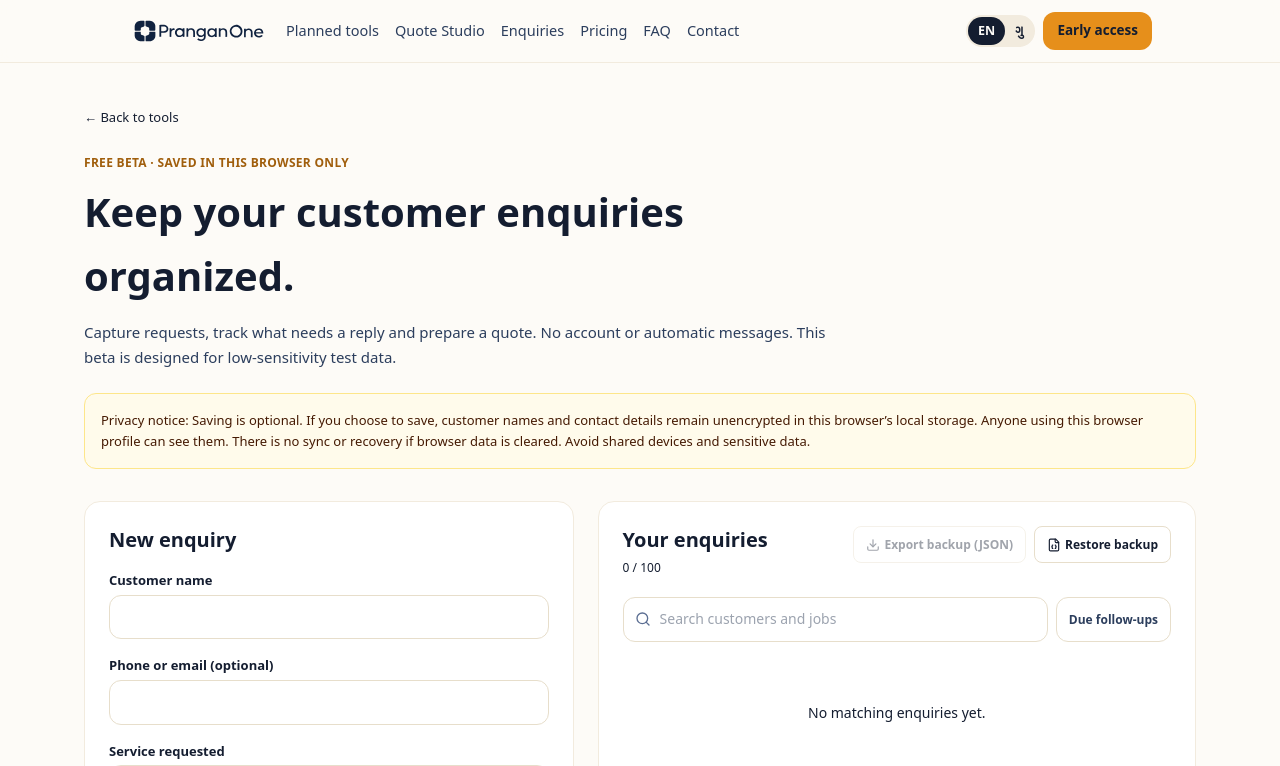
it: local enquiry tracker › saves a customer request and offers a quotation from it
The image size is (1280, 766).
Step 1. Type "Ravi" into the field labelled "Customer name" → (329, 617), box [109, 595, 549, 639]
(page scrolled)
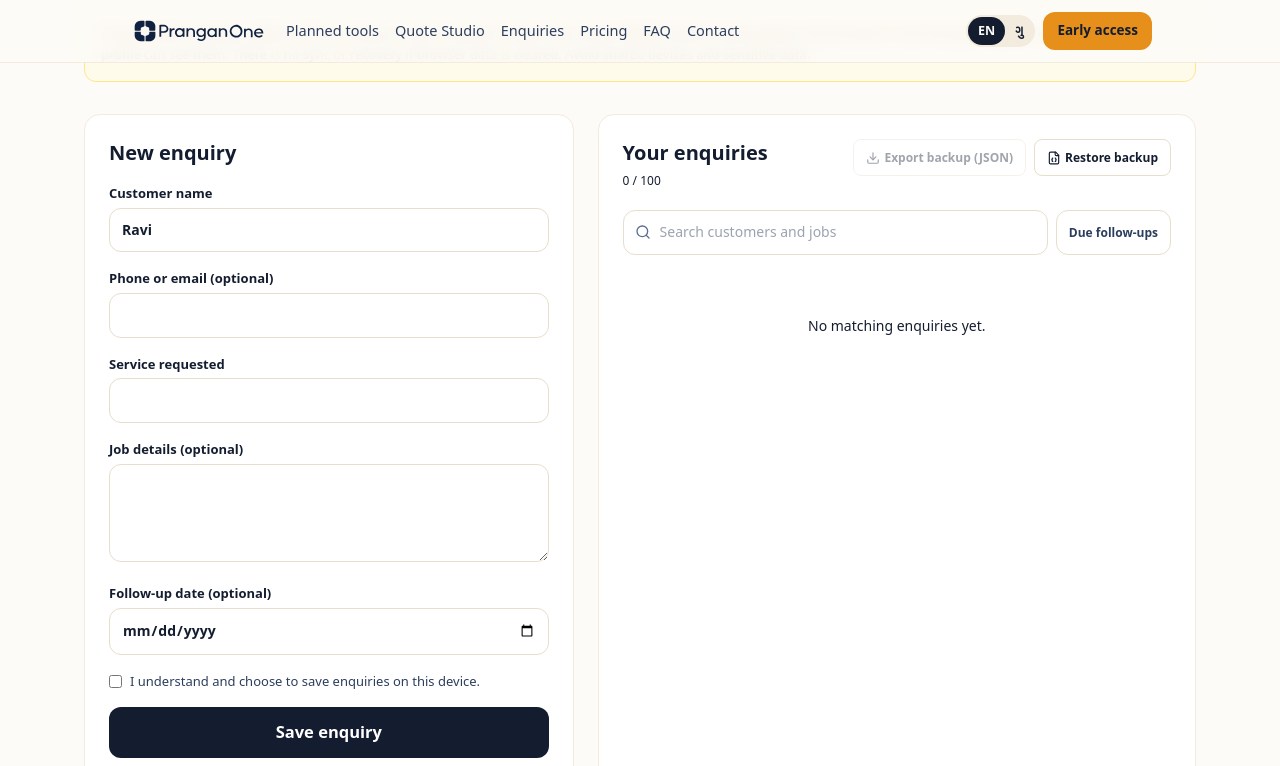
Step 2. Type "AC service" into the field labelled "Service requested" → (329, 400), box [109, 378, 549, 423]
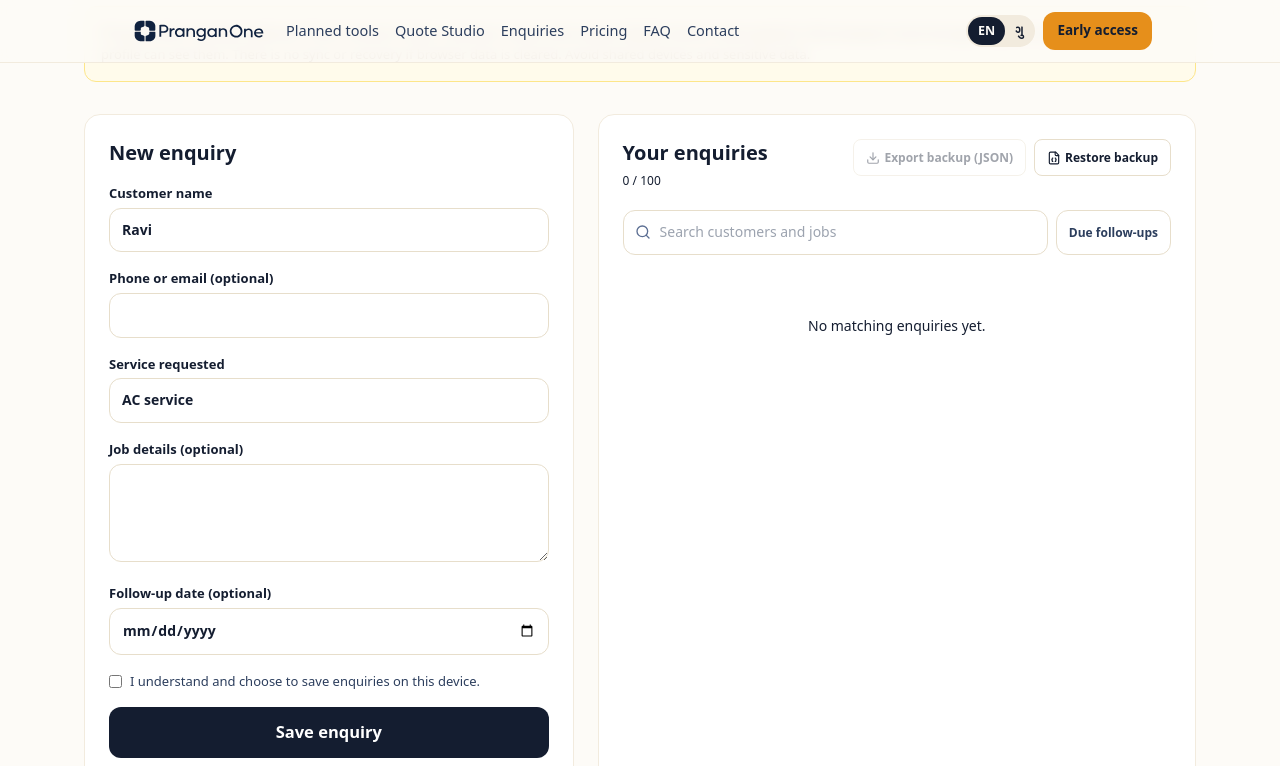
Step 3. Click the checkbox labelled "I understand and choose to save enquiries on this device." → (116, 681), box [109, 674, 122, 688]
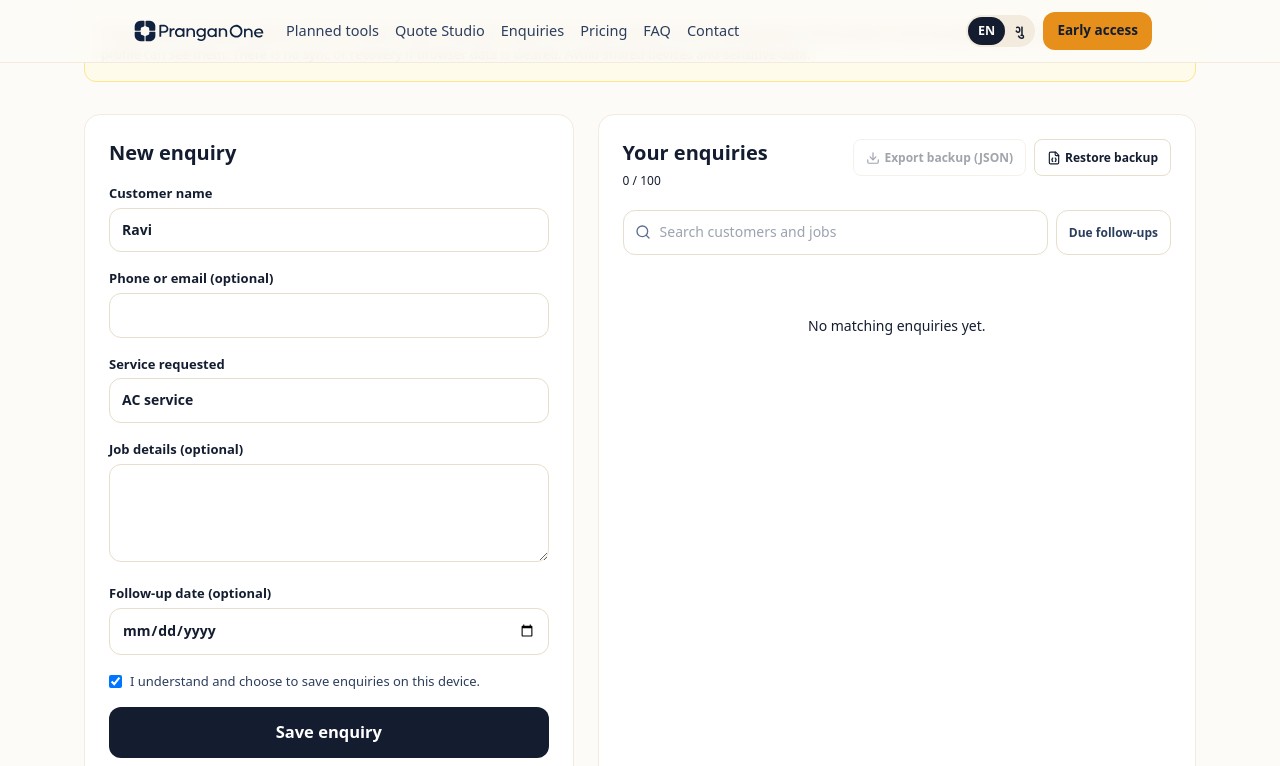
Step 4. Click the button "Save enquiry" → (329, 732), box [109, 707, 549, 758]
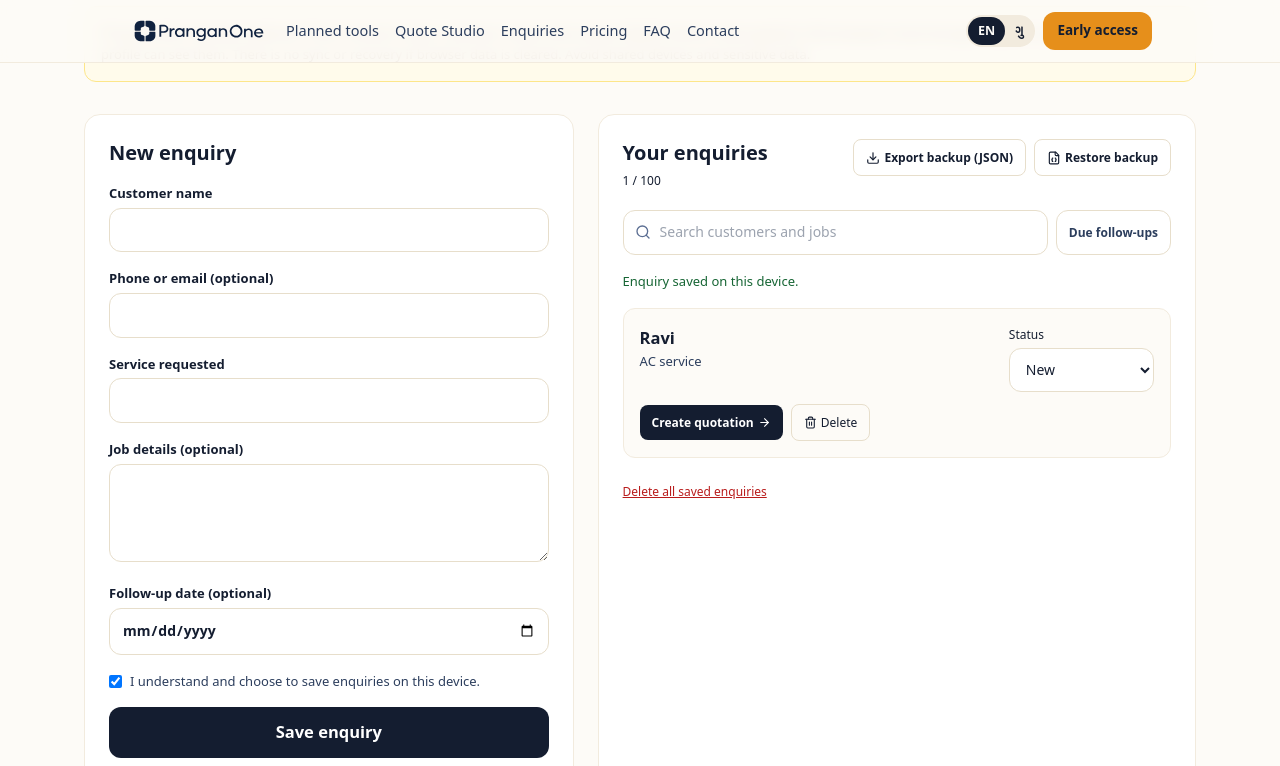
Now the heading "Ravi" is shown, box [640, 326, 675, 348]
Now the text "AC service" is shown, box [640, 351, 702, 372]
Now the button "Create quotation" is shown, box [640, 405, 783, 440]
